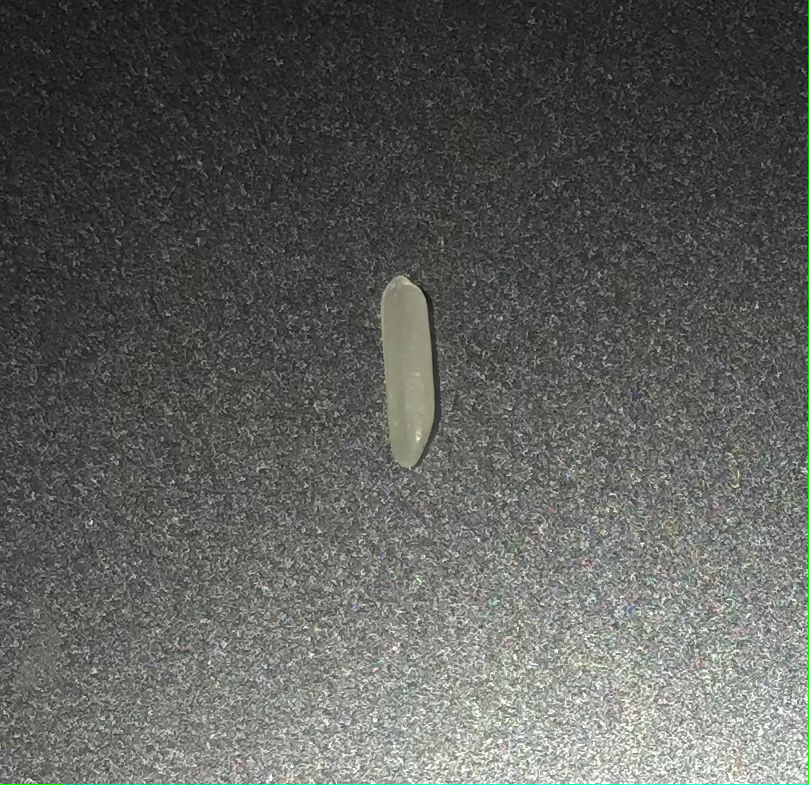Gao Long Lai: (364, 271, 451, 470)
